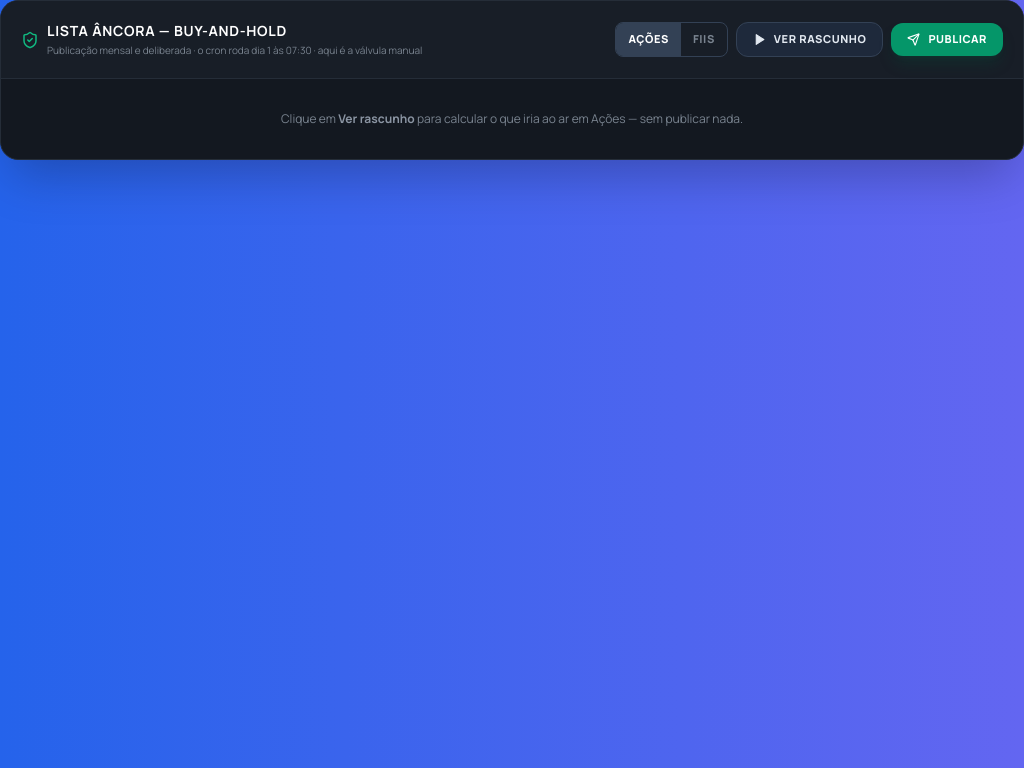
Test: AnchorPublicationCard › mostra o motivo quando o portão de qualidade bloqueia
This screenshot has width=1024, height=768.
Click the button "Ver rascunho" at (810, 40), box [736,22,883,57]
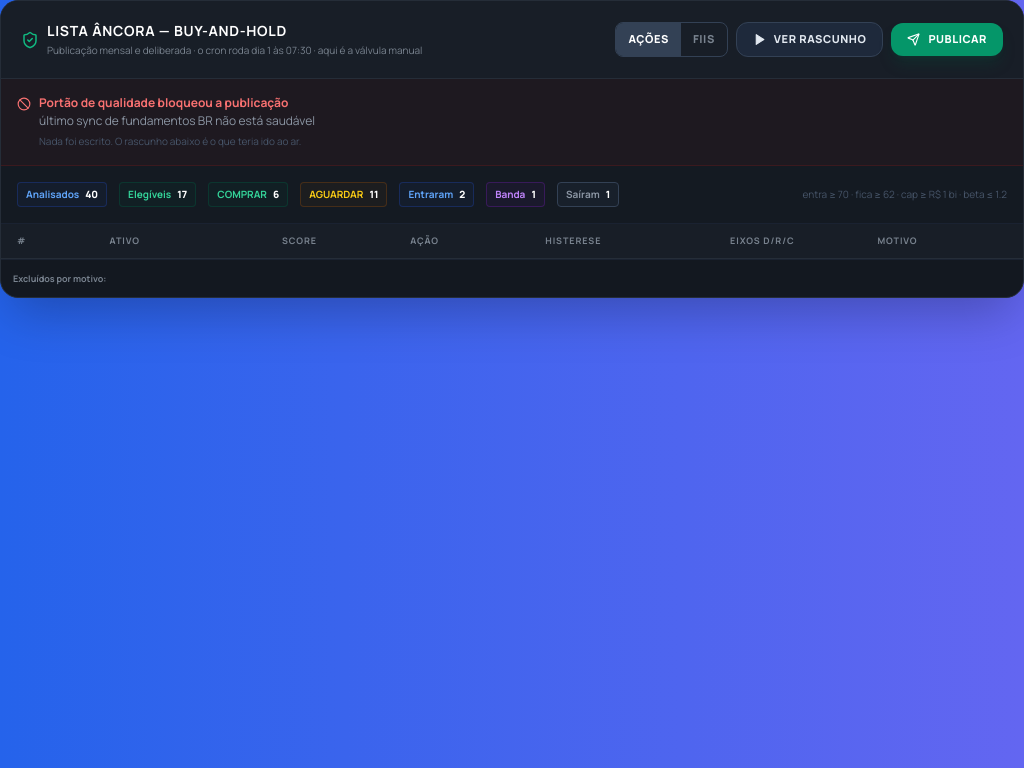
Expected: the text "Portão de qualidade bloqueou a publicação" is shown, [39,95,315,111]
Expected: the text "último sync de fundamentos BR não está saudável" is shown, [39,113,315,129]
